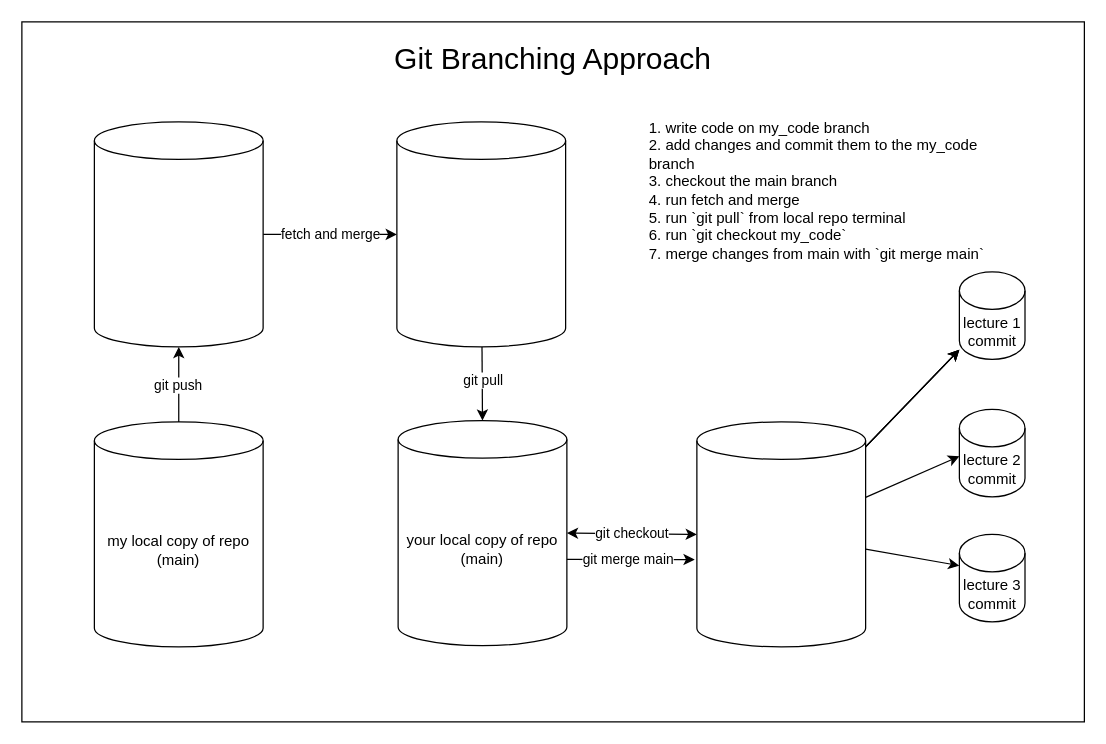
The diagram is 1106 pixels wide and 744 high, and some of its shapes have lost their labels. The centre of each missing label's shape, as x and y in pixels:
"learn-co-students repo (main)" belongs at [178,234].
"your fork of the repo (main)" belongs at [481,234].
"your local copy of repo (my_code)" belongs at [781,534].
